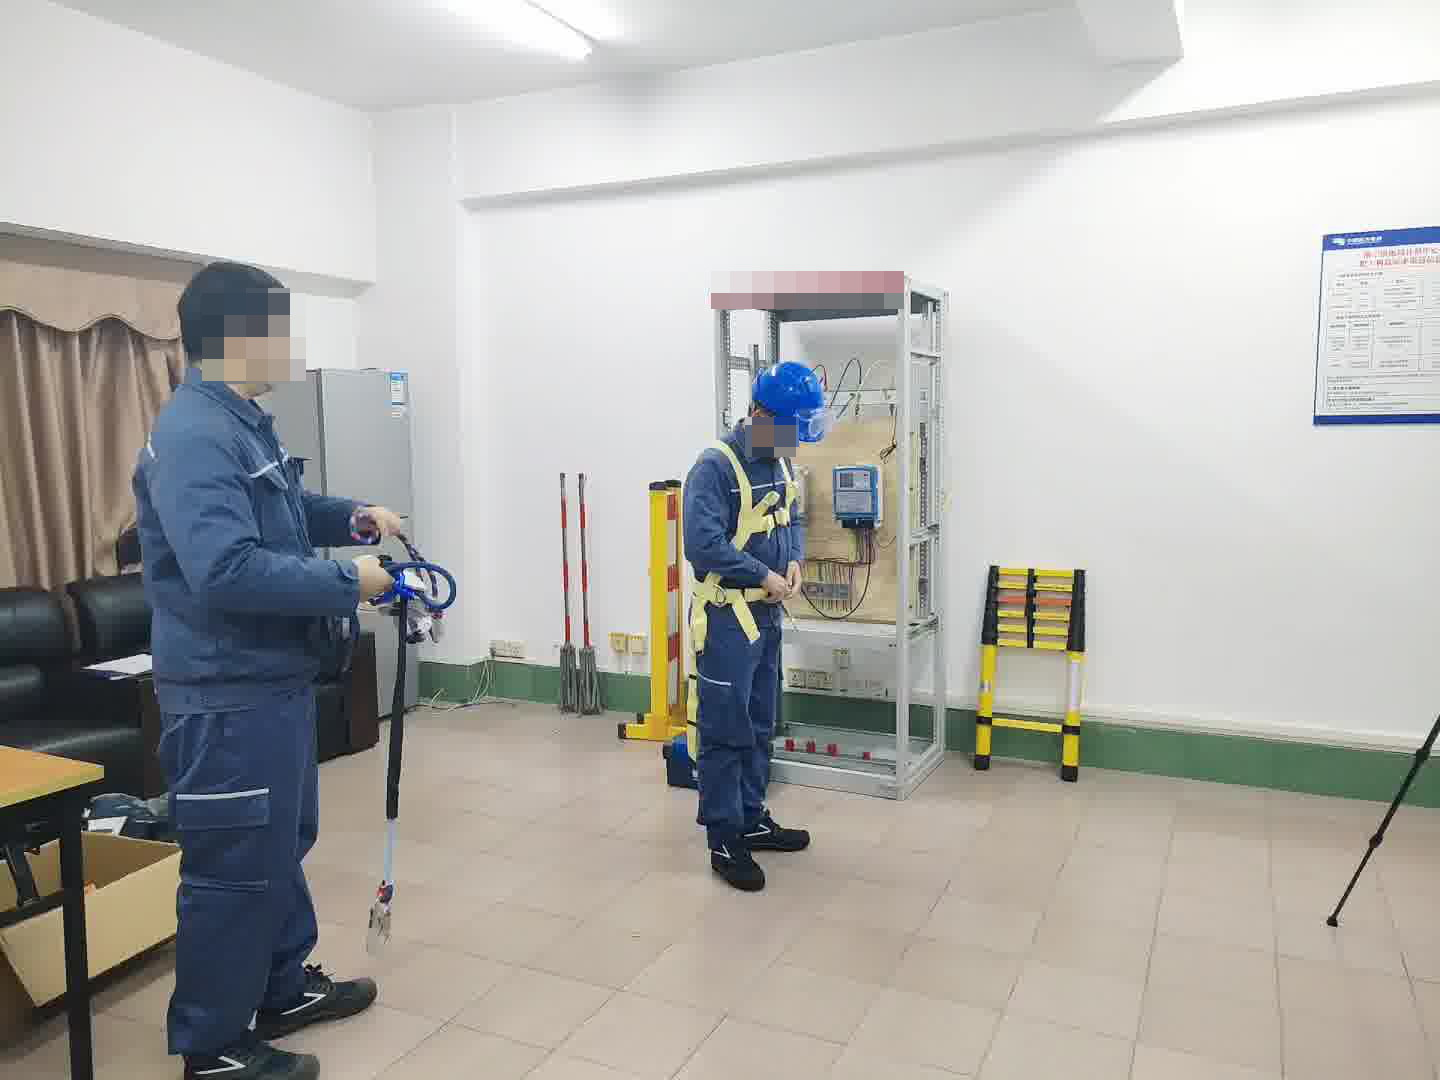downsuit: (161, 713, 330, 1059), (693, 618, 786, 841)
halt: (748, 359, 828, 448)
hand: (350, 550, 397, 598), (358, 500, 403, 538), (780, 562, 810, 595), (763, 568, 790, 602)
inear: (746, 403, 777, 445)
noear: (215, 318, 265, 361)
person: (119, 251, 436, 1080), (678, 358, 834, 875)
safebelt: (683, 432, 807, 648)
unhalt: (175, 259, 303, 388)
upsuit: (124, 370, 401, 693), (682, 426, 798, 589)
